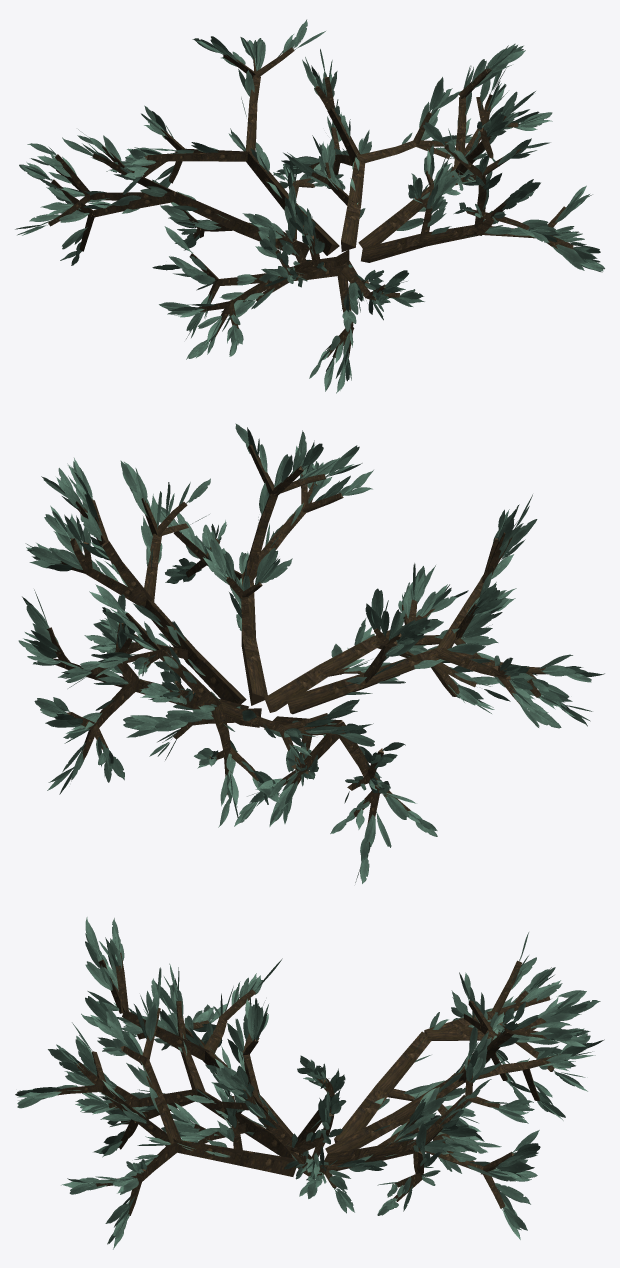
Rendered from juniper_low_v01_LOD1.fbx.
The picture shows the model from 3 angles, top to bottom: view 1: azimuth 30°, elevation 25°; view 2: azimuth 150°, elevation 25°; view 3: azimuth 270°, elevation 25°; orthographic projection. The views are drawn at different scales.
Visible parts, largest first — view 1: juniper_low_v01_LOD1; view 2: juniper_low_v01_LOD1; view 3: juniper_low_v01_LOD1.
Part boxes in pixels (<box>): juniper_low_v01_LOD1: <box>15,19,604,393</box>; juniper_low_v01_LOD1: <box>18,423,604,883</box>; juniper_low_v01_LOD1: <box>15,917,604,1249</box>.
Size of the model in its own units: 105 by 50.08 by 106.
Materials: 2 (2 with a texture image).
